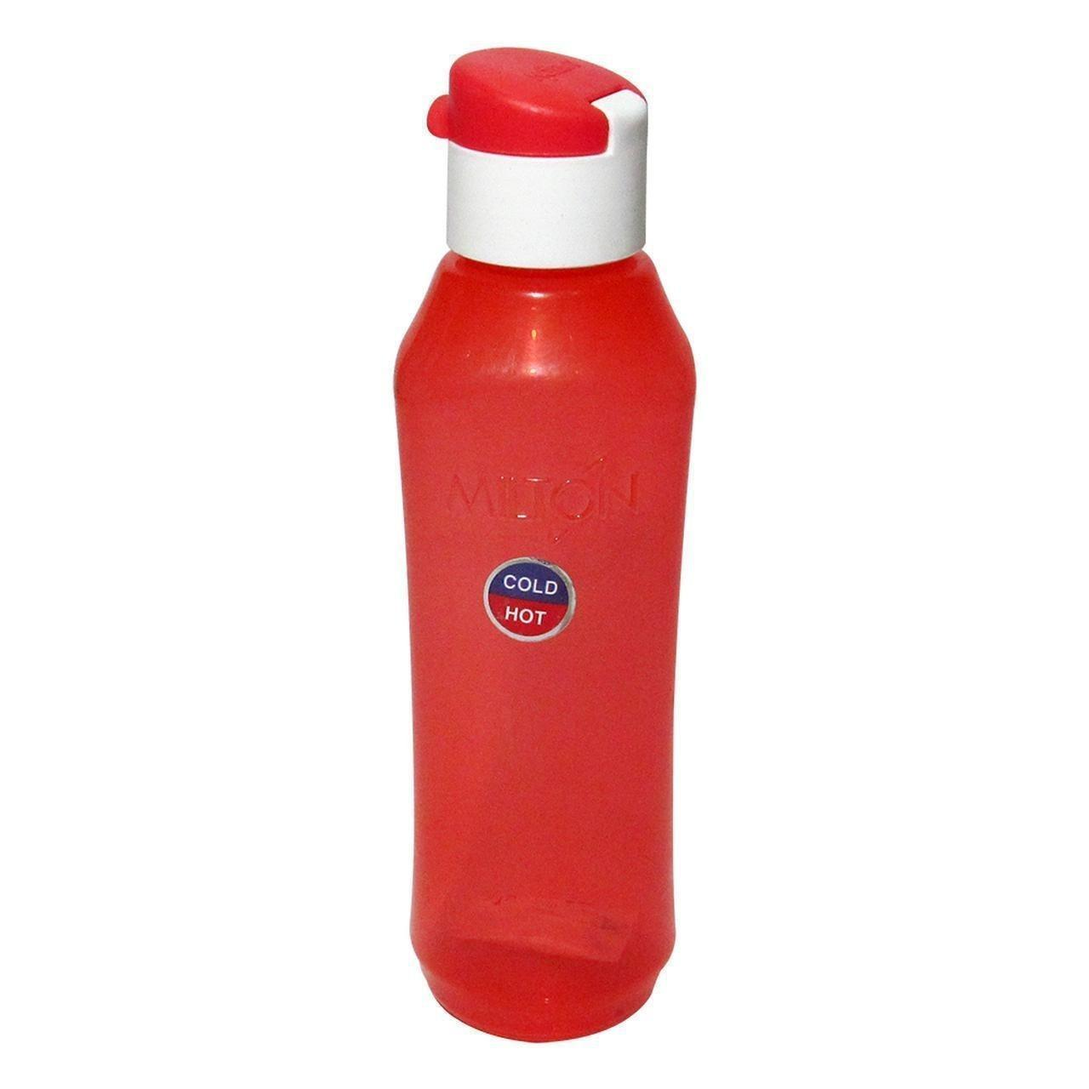gym bottle: (388, 37, 703, 1052)
